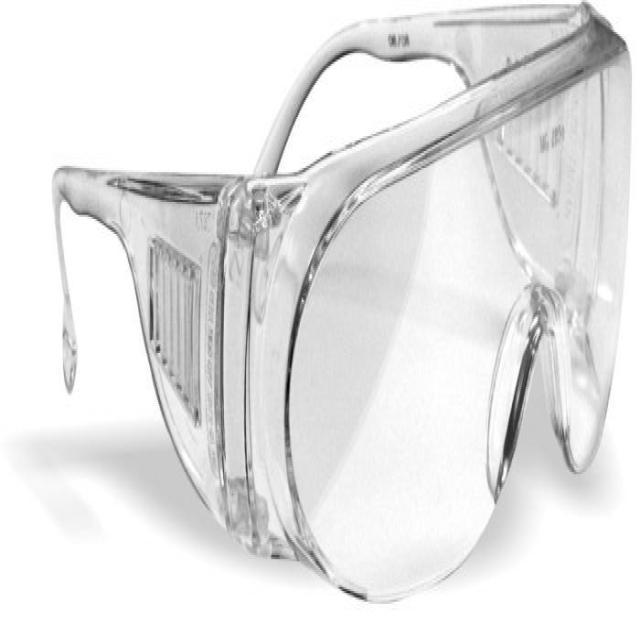Goggles: (47, 0, 636, 606)
